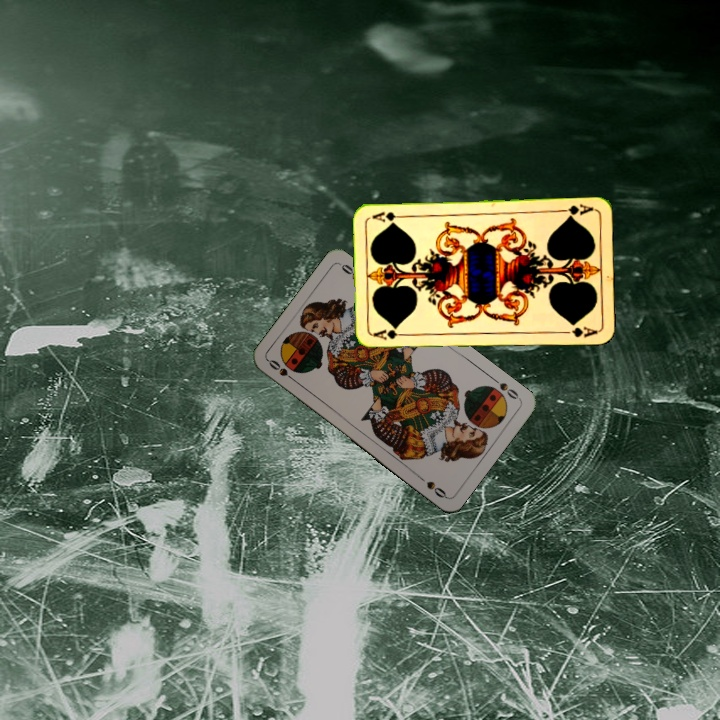GA: (555, 200, 596, 220), (370, 326, 410, 342)
SO: (264, 356, 299, 385), (488, 373, 523, 402)
